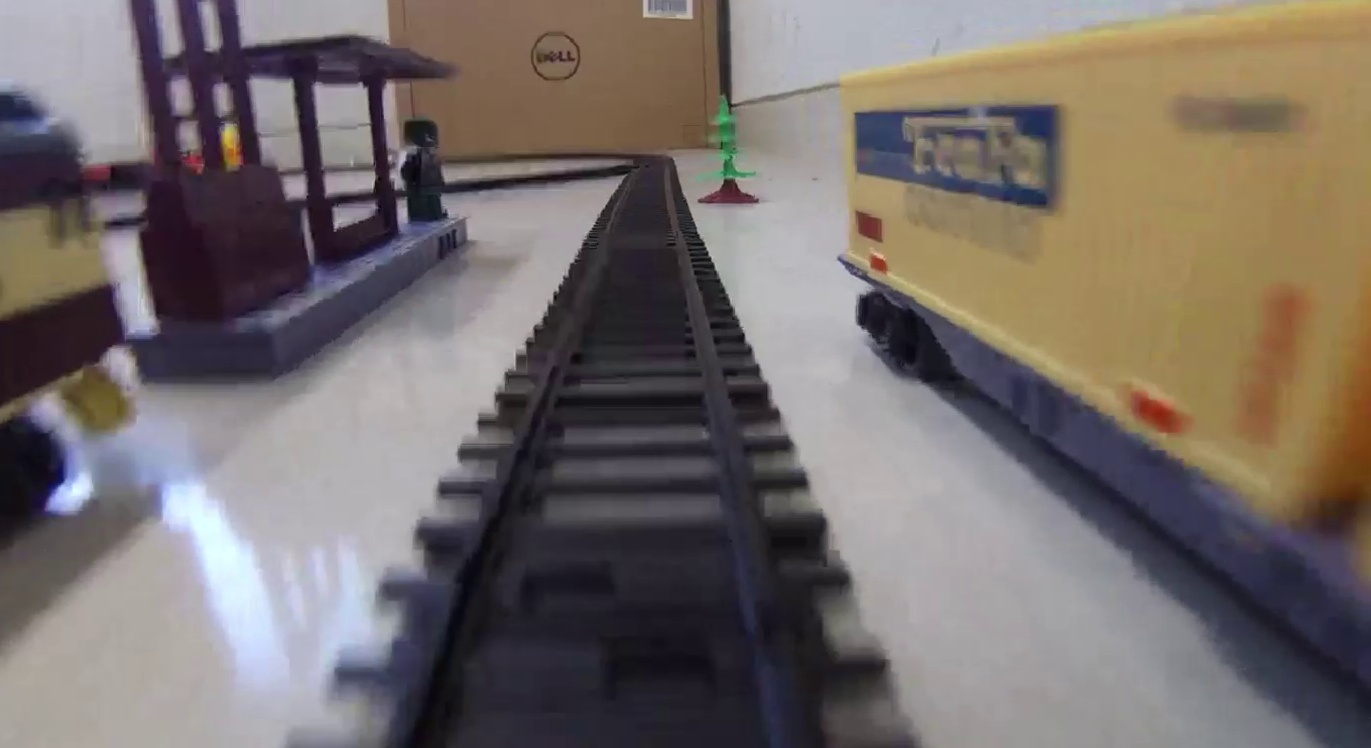people: (400, 116, 447, 221)
tree: (696, 92, 761, 202)
